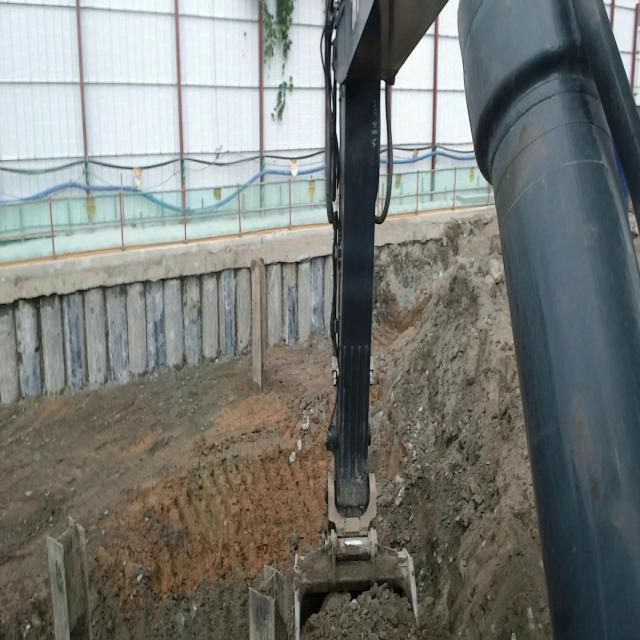red-sand: (0, 336, 332, 639), (369, 210, 550, 639), (305, 585, 422, 639)
